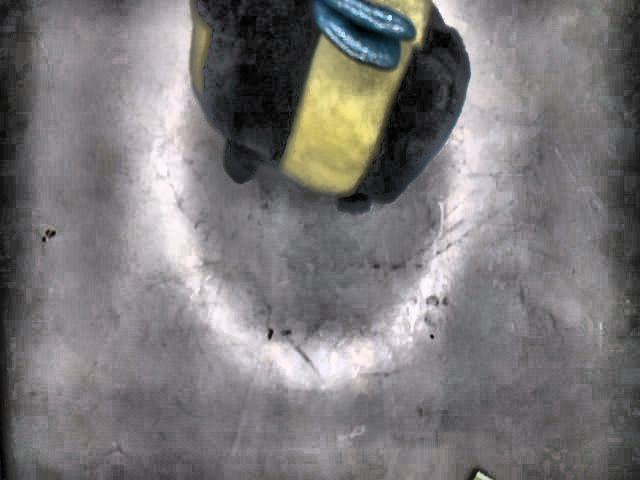Almennt: (184, 0, 469, 214)
